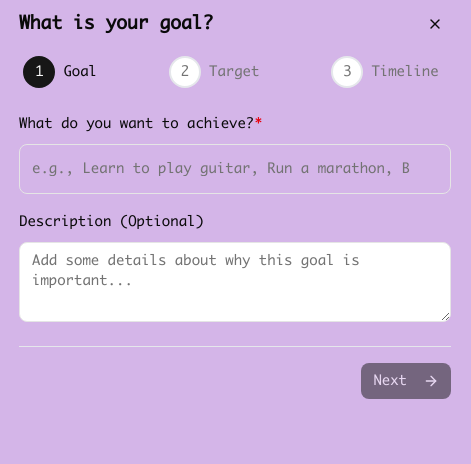
Test case: InlineGoalCreation - Goal Validation › AI validation integration › shows error with AI feedback when goal is rejected
In the field with placeholder "Learn to play guitar": (235, 169) [19,144,451,194], type "do something"
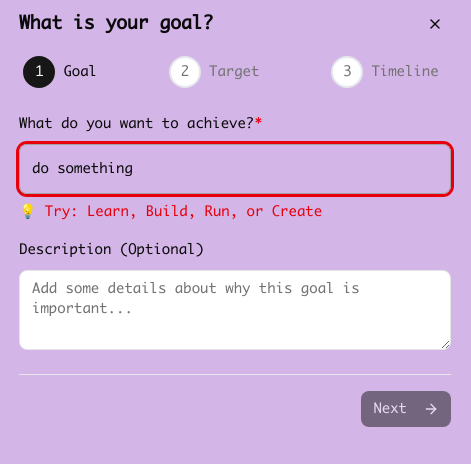
Note: Since "do something" fails client validation, we need a goal that passes client but fails AI
Replace the text in the field with placeholder "Learn to play guitar" with "learn things": (235, 169) [19,144,451,194]
Wait 800 ms
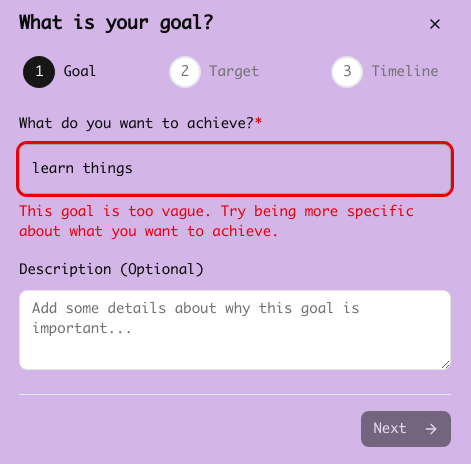
Expected: the text "This goal is too vague" is shown, [19,205,414,239]
